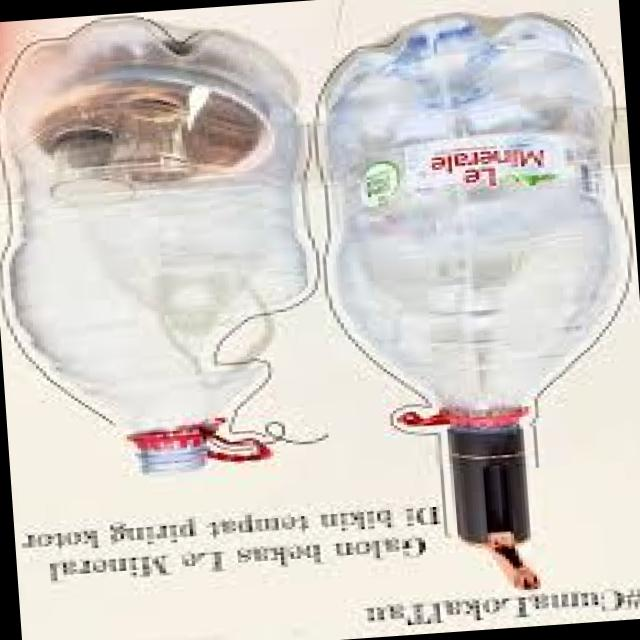Galon: (0, 2, 337, 488), (316, 2, 640, 428)
